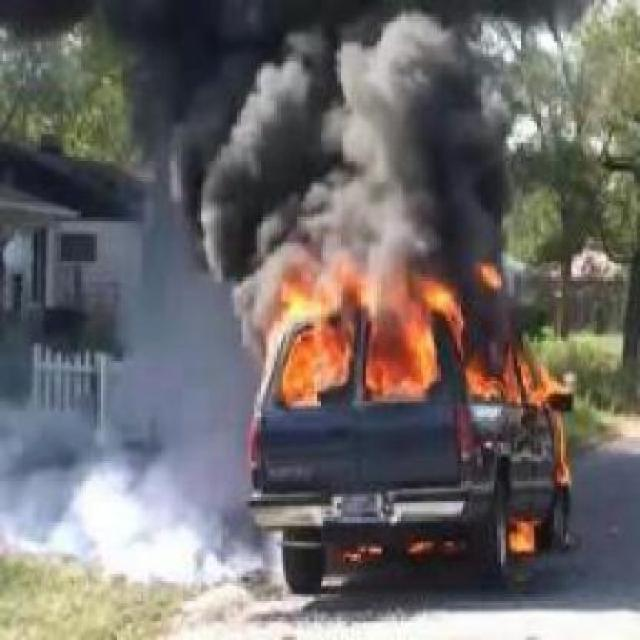Fire: (258, 259, 510, 399), (512, 348, 562, 403), (552, 406, 574, 488), (508, 516, 536, 554)
Smoke: (117, 0, 520, 255), (65, 271, 254, 574)
